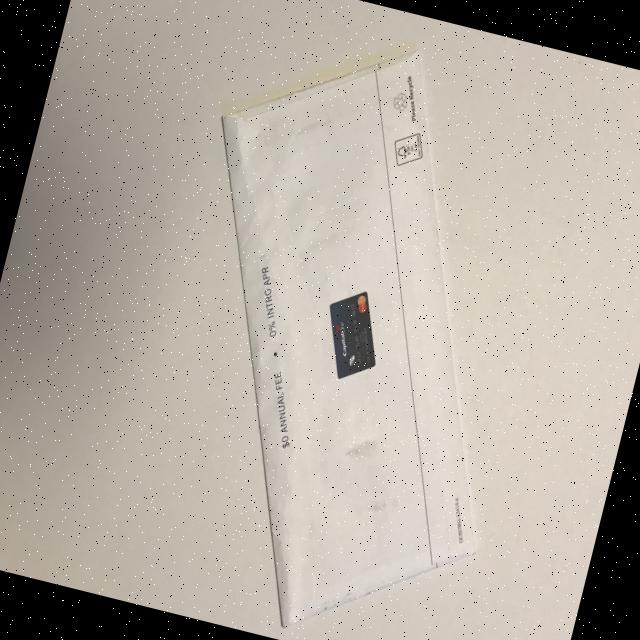paper: (103, 5, 590, 640)
